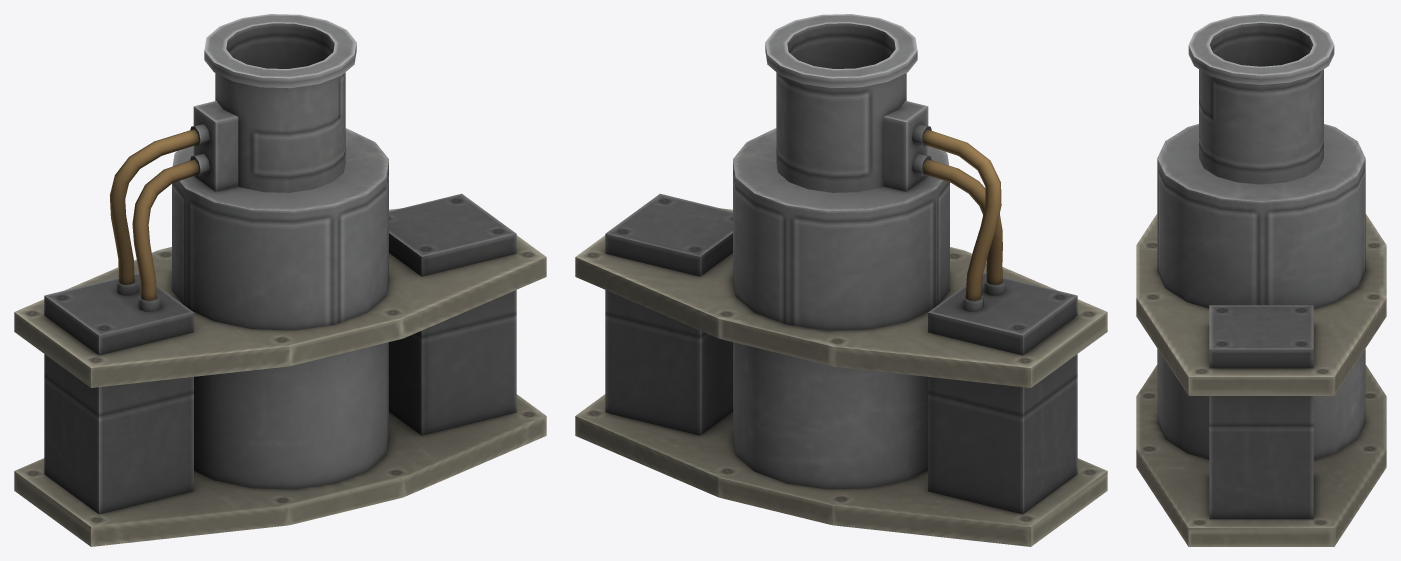
Rendered from naked telescope.obj.
The picture shows the model from 3 angles, left to right: view 1: azimuth 30°, elevation 25°; view 2: azimuth 150°, elevation 25°; view 3: azimuth 270°, elevation 25°; orthographic projection. The views are drawn at different scales.
Visible parts, largest first — view 1: 1; view 2: 1; view 3: 1.
Part boxes in pixels (box(x1,y1,x2,y2)): 1: box(14, 14, 546, 546); 1: box(575, 14, 1107, 546); 1: box(1136, 14, 1386, 546).
Size of the model in its own units: 0.6 by 0.525 by 0.3.
1 material, 1 textured.
